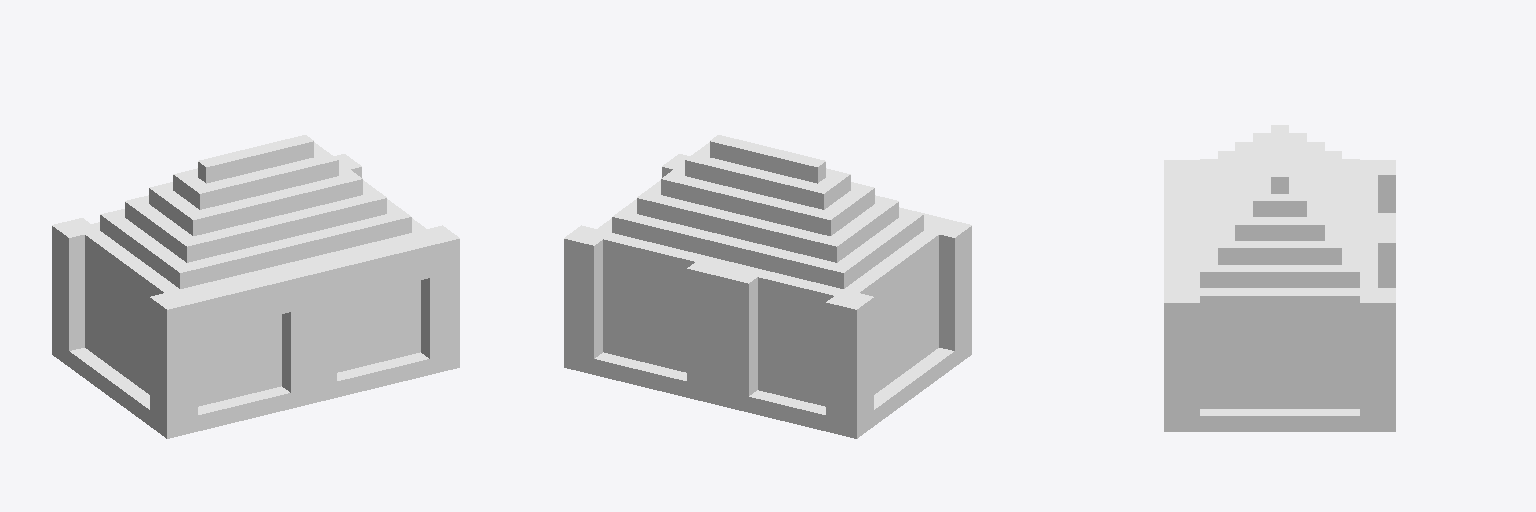
File: Final_Box_Under.obj
The picture shows the model from 3 angles: view 1: azimuth 30°, elevation 25°; view 2: azimuth 150°, elevation 25°; view 3: azimuth 270°, elevation 25°; orthographic projection.
Visible parts, largest first — view 1: object 1; view 2: object 1; view 3: object 1.
Boxes of the visible parts, <box> form: object 1: <box>52,135,459,438</box>; object 1: <box>564,135,971,438</box>; object 1: <box>1164,125,1395,431</box>.
Bounding box in the file's own units: 1.9 × 1.3 × 1.3.